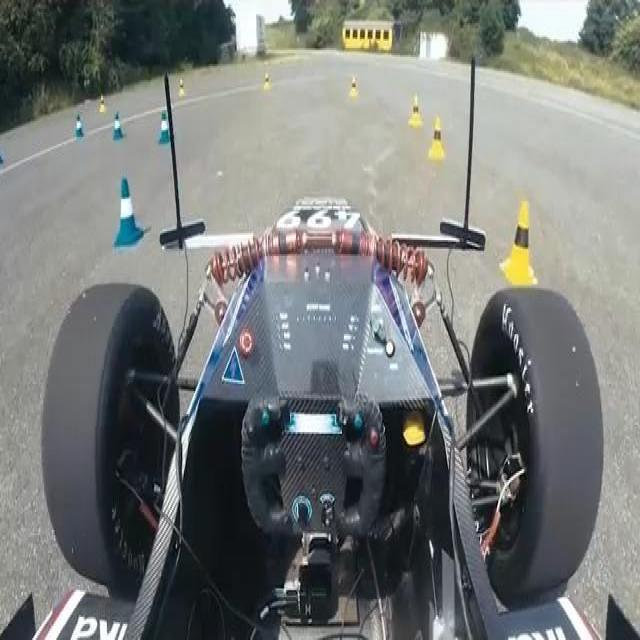blue_cone: (115, 176, 144, 247), (158, 112, 172, 147), (112, 112, 124, 142), (74, 114, 84, 139)
yellow_cone: (499, 199, 538, 286), (428, 118, 446, 160), (408, 94, 423, 128), (349, 75, 359, 98)
